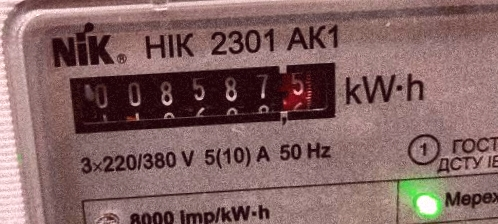0: (91, 79, 109, 109), (125, 78, 143, 107)
5: (288, 68, 307, 98), (189, 74, 207, 102)
7: (252, 69, 271, 100)
8: (221, 72, 239, 103), (157, 77, 174, 106)
screen: (50, 45, 356, 145)
